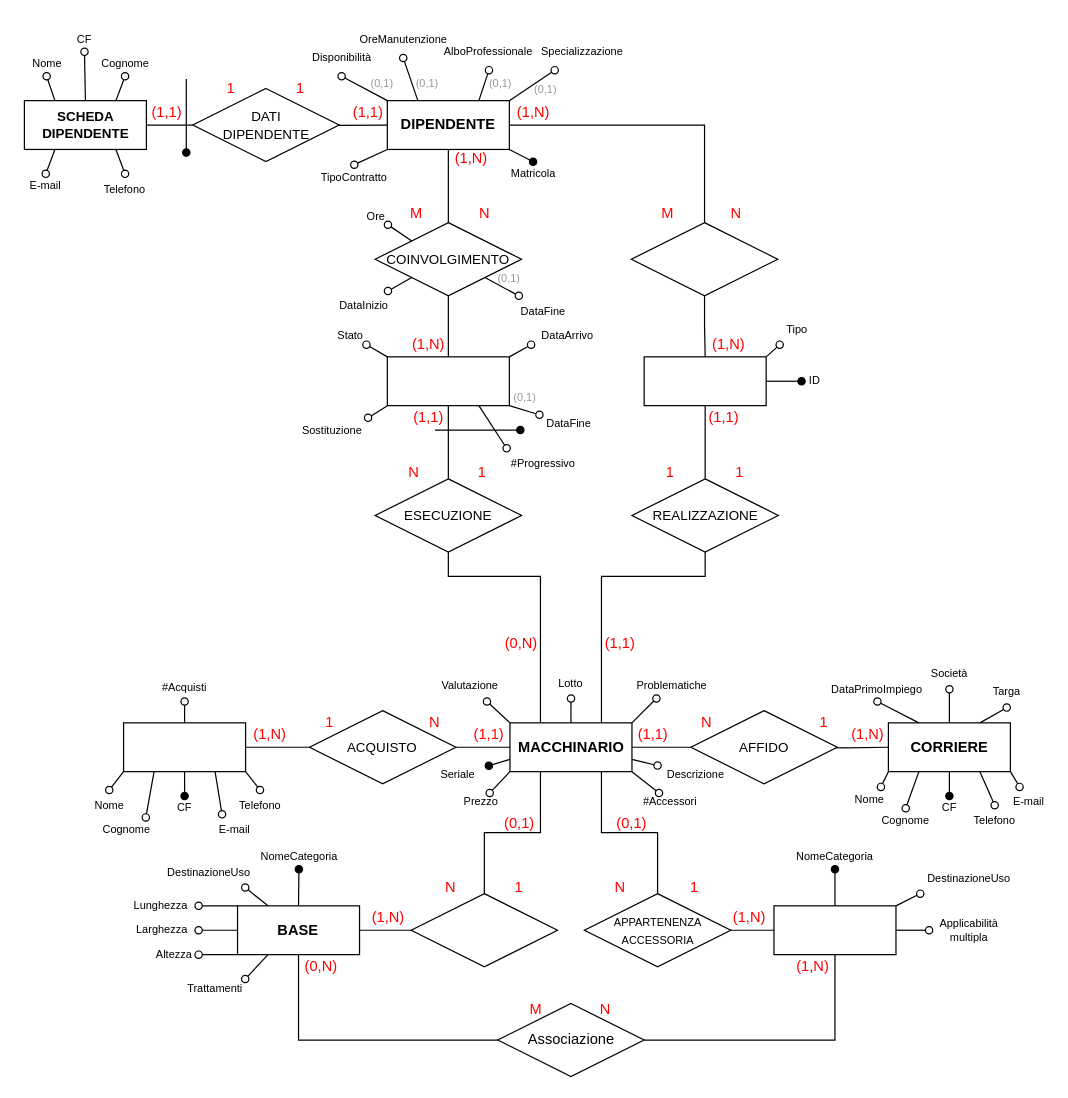
Image size: 1068x1098. Some labels were removed from this diagram. Each missing label, with the centre of its shape:
ACCESSORIA: [834,930]
APPARTENENZA BASE: [484,929]
CLIENTE: [184,747]
INTERVENTO: [447,381]
PARTECIPAZIONE: [704,258]
PROGETTO: [704,381]
